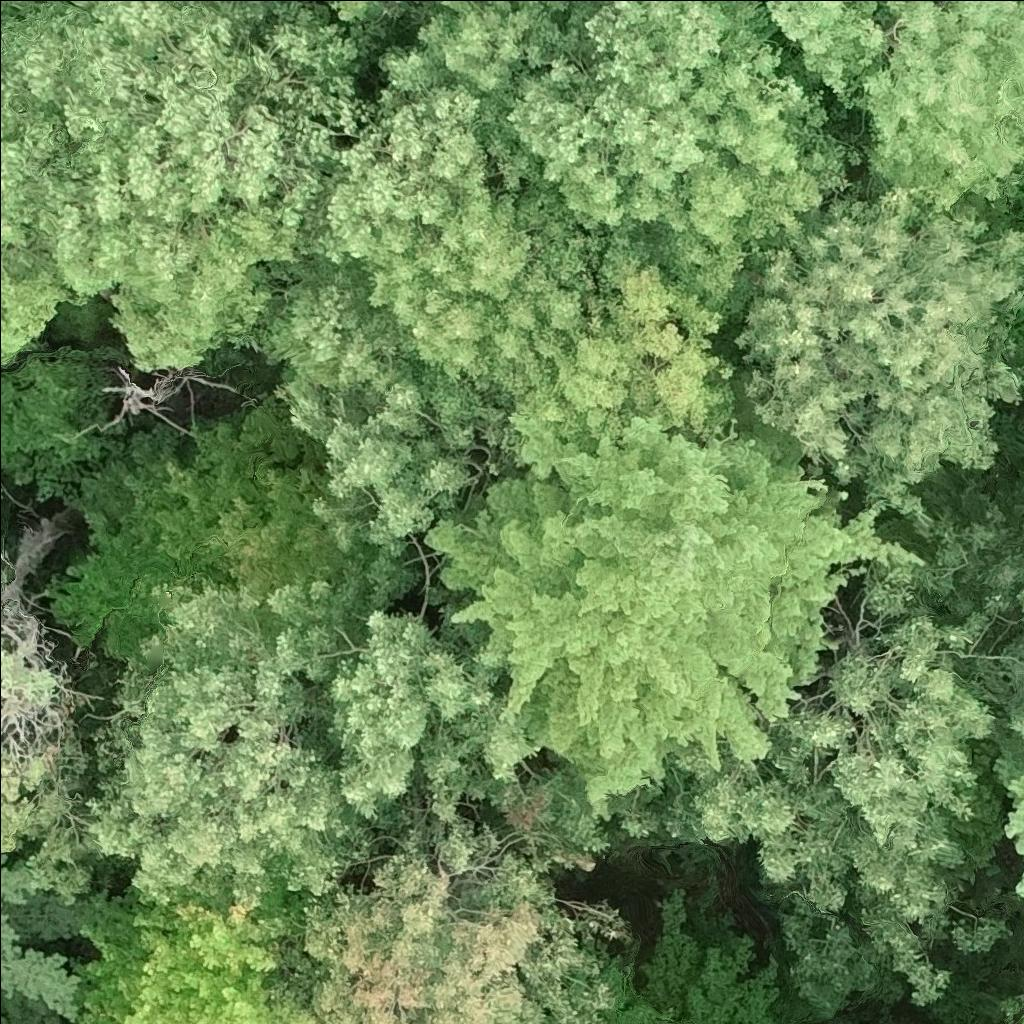crown: (424, 420, 923, 829), (625, 559, 995, 1004), (355, 0, 855, 325), (254, 88, 614, 534), (87, 458, 424, 909), (0, 0, 361, 391), (739, 191, 1023, 510), (52, 389, 345, 656), (308, 807, 617, 1023), (335, 617, 584, 867), (755, 0, 1023, 209), (495, 266, 750, 482), (74, 854, 353, 1023), (0, 349, 178, 523), (0, 552, 92, 882), (646, 887, 777, 1023), (0, 866, 89, 1023), (0, 191, 80, 361), (116, 363, 242, 434), (590, 961, 679, 1023), (997, 581, 1023, 783), (1002, 776, 1023, 841), (434, 0, 462, 35), (329, 0, 389, 9), (1013, 993, 1023, 1023), (1016, 870, 1023, 897)
